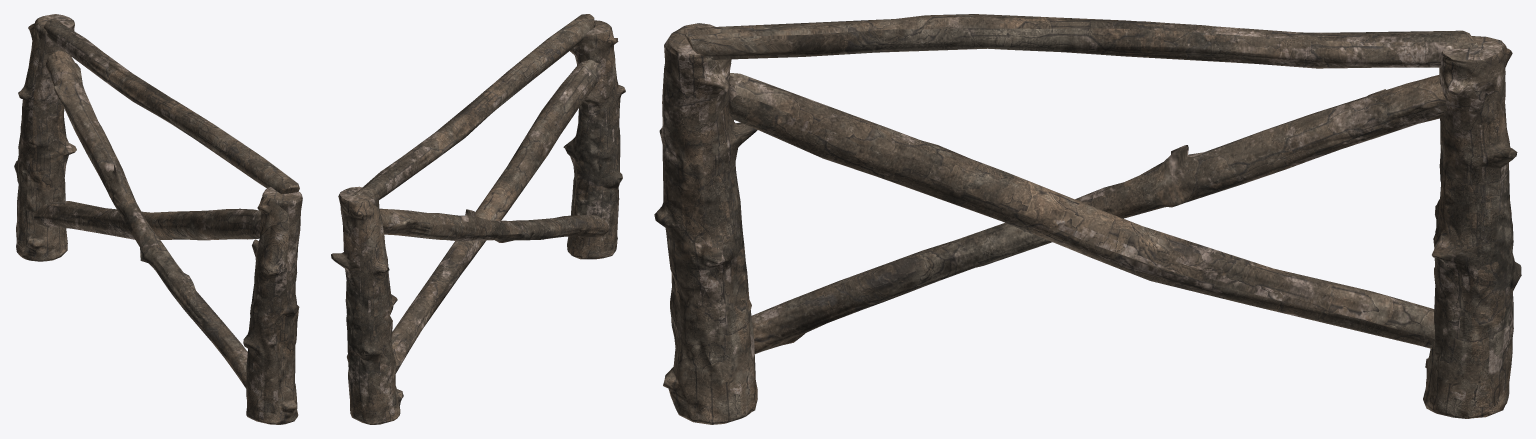
The model's file is SM_Fence_01b.fbx.
3 views of the same model, side by side, from view 1: azimuth 30°, elevation 25°; view 2: azimuth 150°, elevation 25°; view 3: azimuth 270°, elevation 25° (orthographic). The views are drawn at different scales.
Parts seen in each view (by area): view 1: SM_Fence_01b_LOD0; view 2: SM_Fence_01b_LOD0; view 3: SM_Fence_01b_LOD0.
Boxes of the visible parts, left/top/right/bottom form: SM_Fence_01b_LOD0: left=14, top=14, right=302, bottom=424; SM_Fence_01b_LOD0: left=331, top=14, right=625, bottom=424; SM_Fence_01b_LOD0: left=654, top=14, right=1521, bottom=424.
Bounding box in the file's own units: 33.59 × 226 × 115.
Materials: 1 (1 with a texture image).
